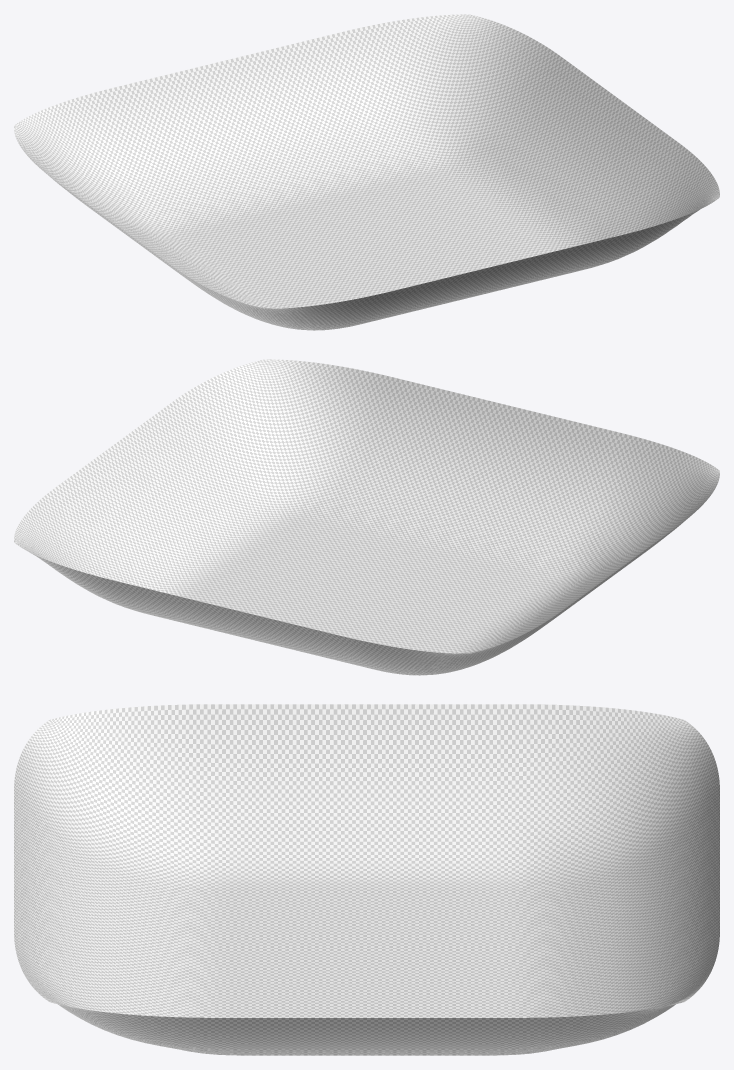
File: Ground.fbx
3 views of the same model, one above another, from view 1: azimuth 30°, elevation 25°; view 2: azimuth 150°, elevation 25°; view 3: azimuth 270°, elevation 25° (orthographic). The views are drawn at different scales.
Parts seen in each view (by area): view 1: Ground; view 2: Ground; view 3: Ground.
Part boxes in pixels (x1,y1,x2,y2): Ground: [14, 14, 719, 330]; Ground: [14, 359, 719, 675]; Ground: [14, 704, 719, 1055].
Size of the model in its own units: 200 by 30.9 by 190.
